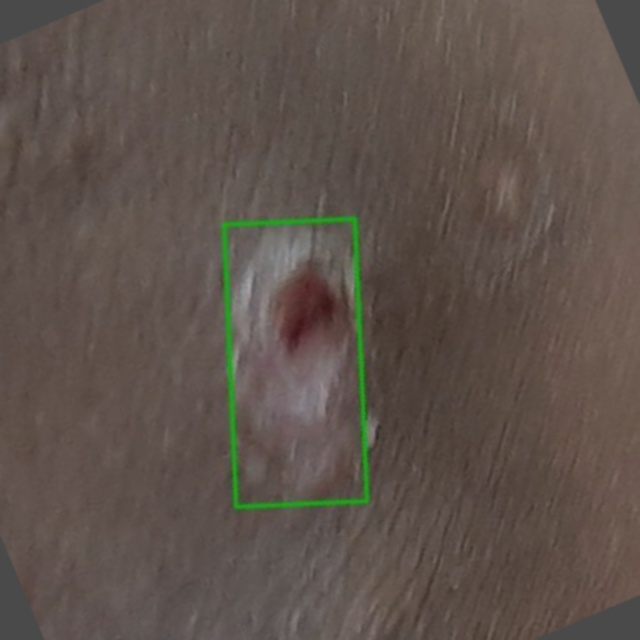Eczema: (223, 219, 366, 507)
